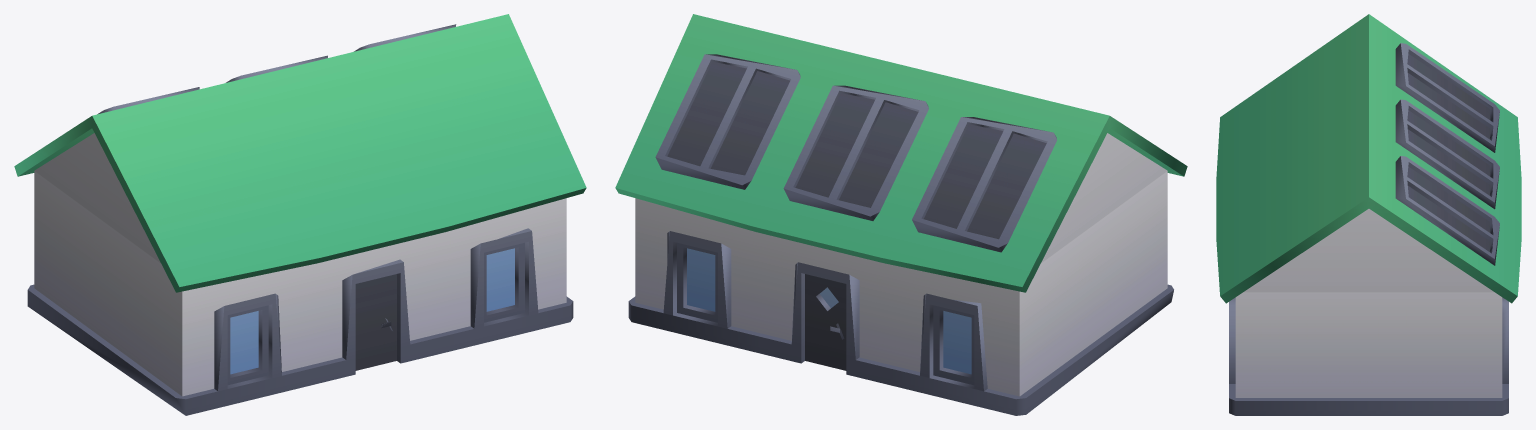
The model's file is 061_city-kit-suburban_building-type-h_card.glb.
3 views of the same model, side by side, from view 1: azimuth 30°, elevation 25°; view 2: azimuth 150°, elevation 25°; view 3: azimuth 270°, elevation 25° (orthographic). The views are drawn at different scales.
Parts seen in each view (by area): view 1: building-type-h; view 2: building-type-h; view 3: building-type-h.
Part boxes in pixels (x1,y1,x2,y2): building-type-h: (14, 14, 586, 415); building-type-h: (615, 14, 1187, 415); building-type-h: (1216, 14, 1521, 415).
Bounding box in the file's own units: 1.3 × 0.7375 × 0.916.
1 material, 1 textured.
